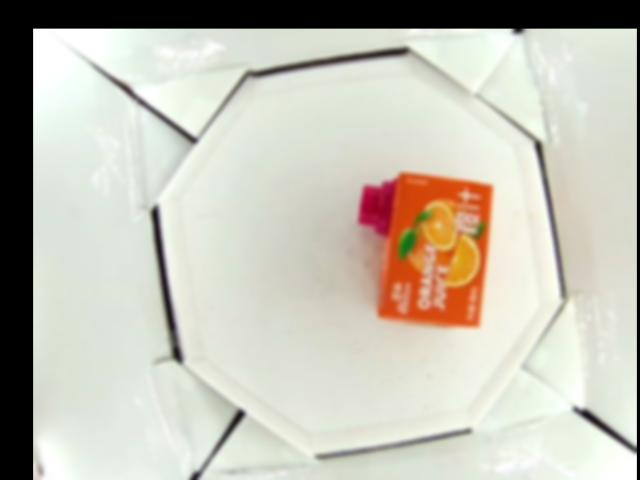Bottle: (356, 173, 494, 328)
